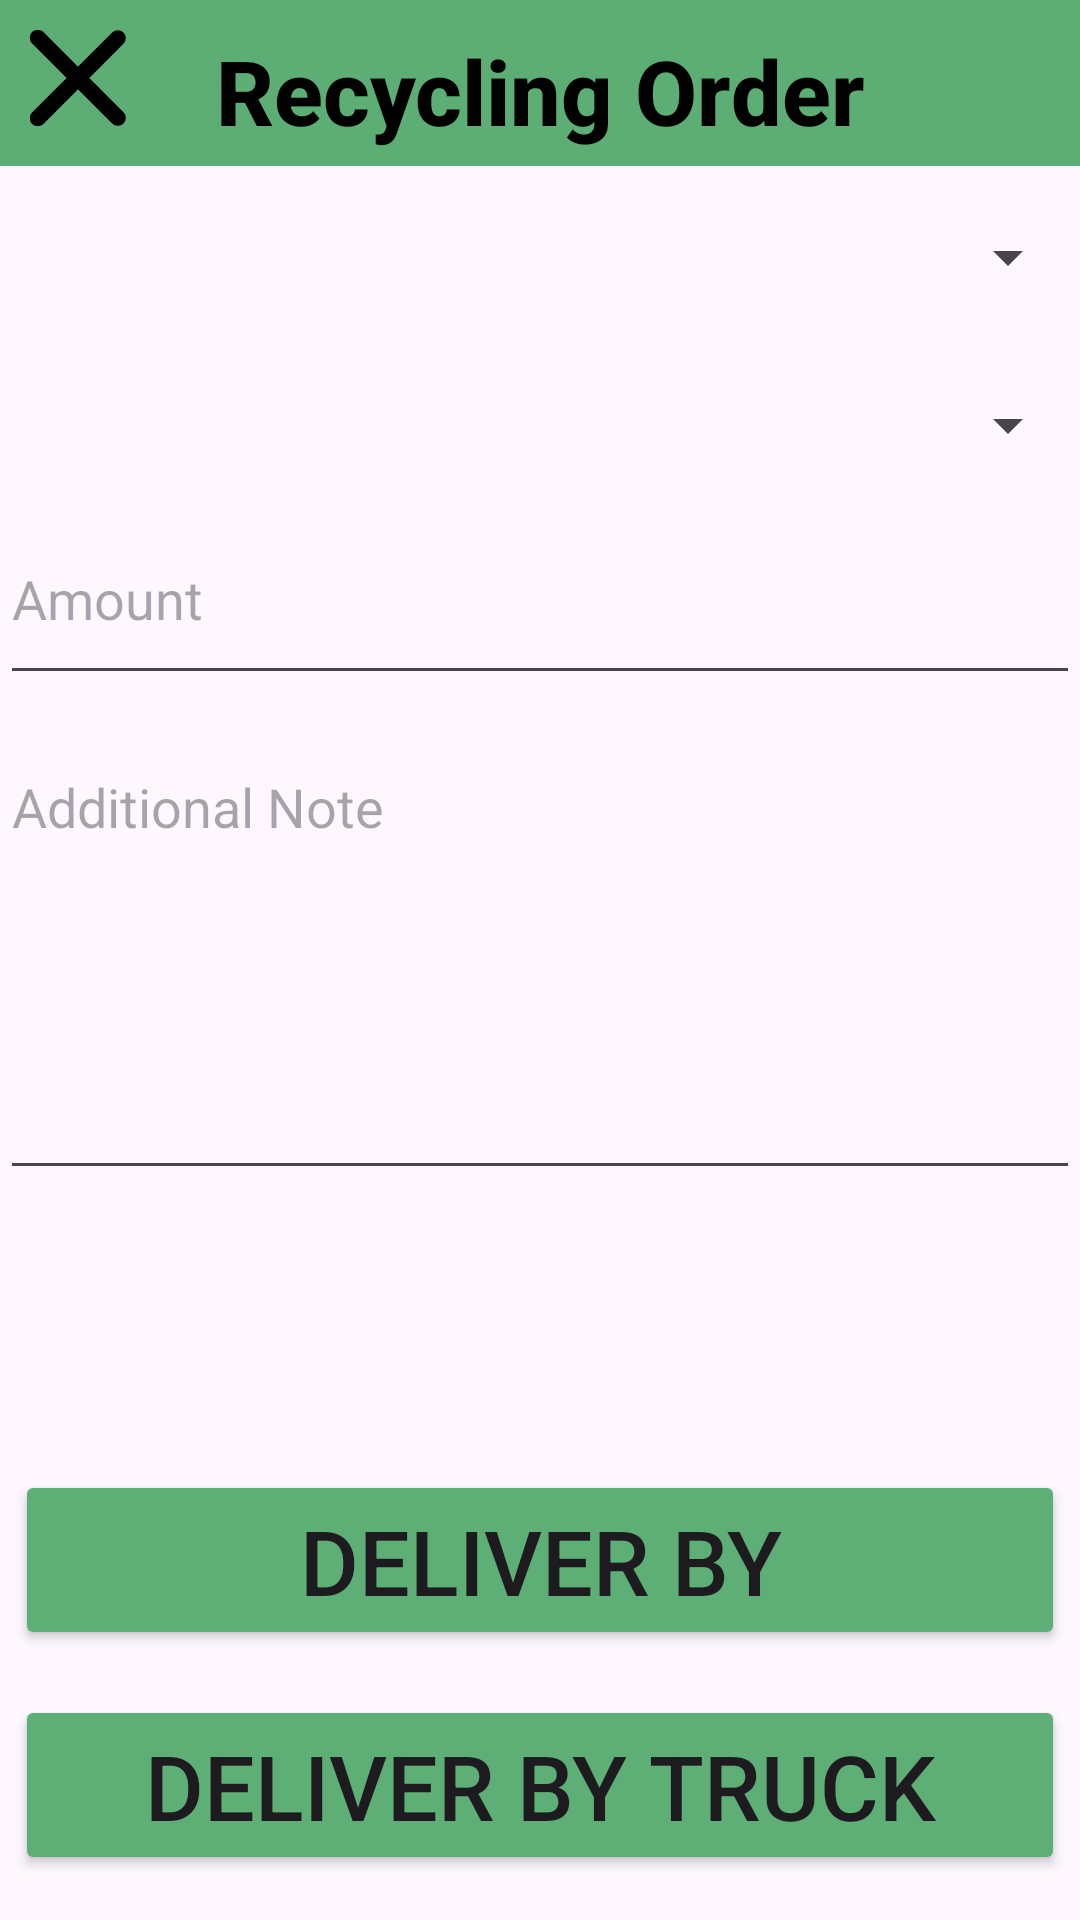

Where to tap for icons on this 1080×1920 app screen, as (x,y):
close: (78,78)
